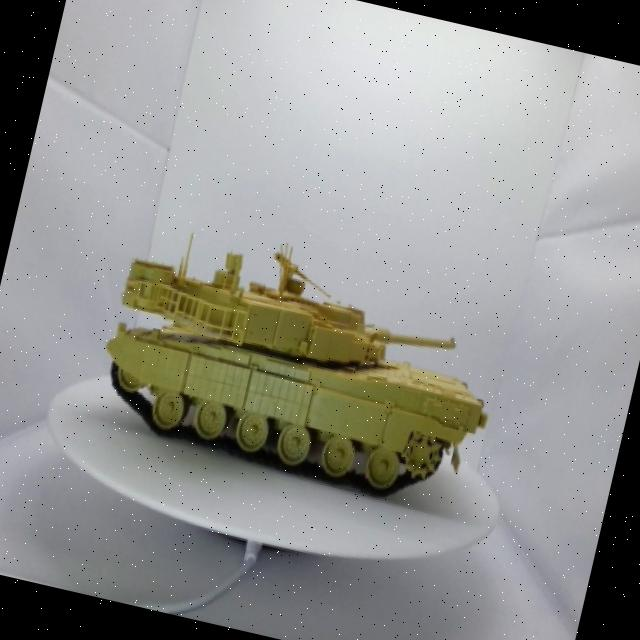korea tank: (70, 198, 542, 539)
